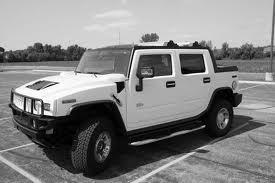car: (10, 43, 245, 179)
